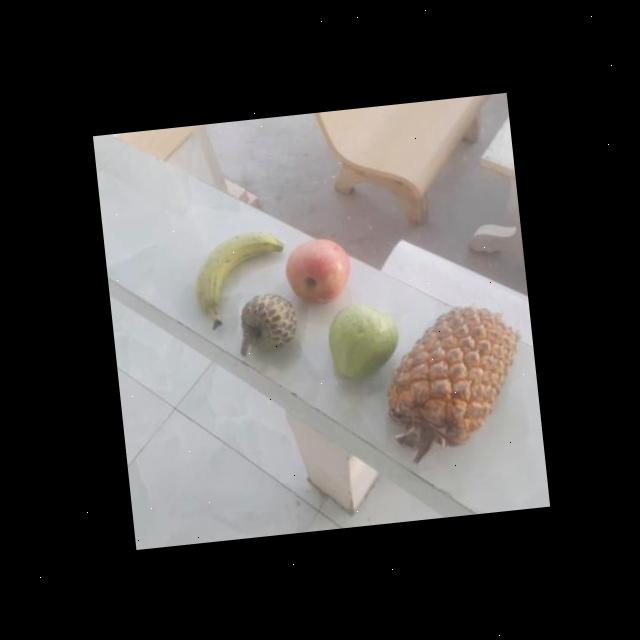Sakya fruit: (236, 288, 301, 354)
apple: (278, 235, 357, 308)
banana: (187, 226, 297, 326)
guava: (324, 300, 404, 382)
pineapple: (376, 300, 532, 460)
